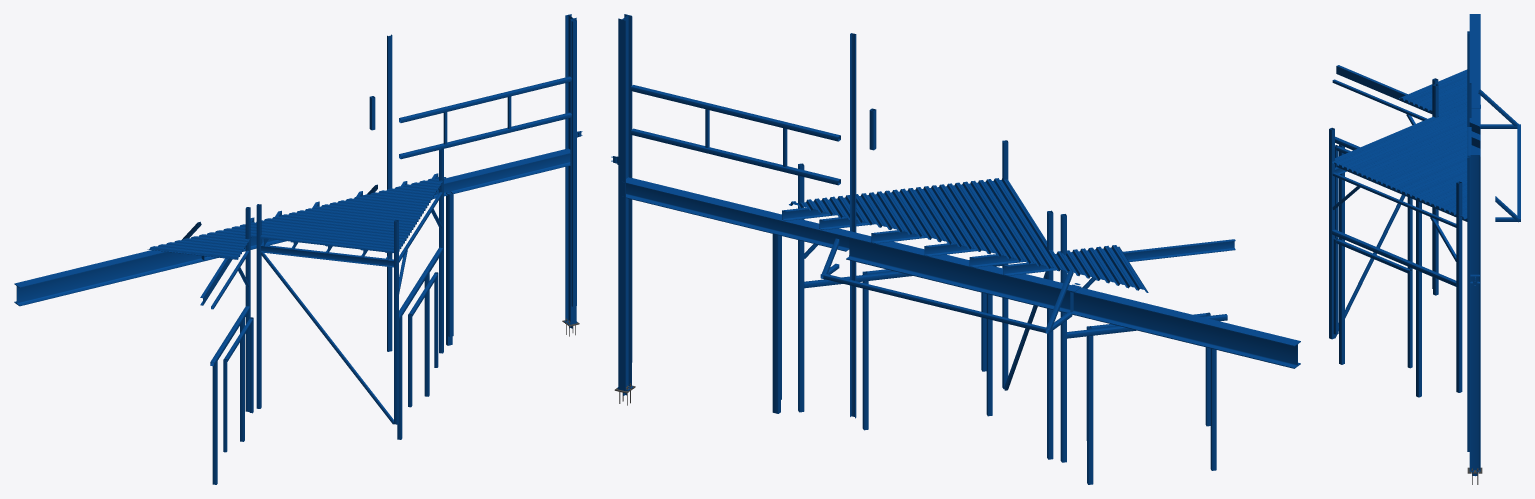
The model's file is GCC-AAV-13220-30.nwd(58).fbx.
3 renders of one model, left to right at view 1: azimuth 30°, elevation 25°; view 2: azimuth 150°, elevation 25°; view 3: azimuth 270°, elevation 25°, orthographic. The views are drawn at different scales.
Visible parts, largest first — view 1: GENSEC 1 of SBFRAMEWORK /13220-BD-001-211-5206/CS/KM1/B/+6.6, Группа фасетов (×2), GENSEC 3 of SBFRAMEWORK /13220-BD-001-211-5206/CS/KM1/B/+6.6, PANEL 233 of FRMWORK /GCC-AFT-DDD-13220-11-5206-KM_KM2-UNPLA, PANEL 225 of FRMWORK /GCC-AFT-DDD-13220-11-5206-KM_KM2-UNPLA, GENSEC 1 of SBFRAMEWORK /13220-BD-001-212-5206/CS/KM2/K/ROW_, PANEL 226 of FRMWORK /GCC-AFT-DDD-13220-11-5206-KM_KM2-UNPLA, PANEL 227 of FRMWORK /GCC-AFT-DDD-13220-11-5206-KM_KM2-UNPLA, GENSEC 237 of FRMWORK /GCC-AFT-DDD-13220-11-5206-KM_KM2-UNPL, GENSEC 277 of FRMWORK /GCC-AFT-DDD-13220-11-5206-KM_KM2-UNPL, GENSEC 36 of SBFRAMEWORK /13220-BD-001-212-5206/CS/KM2/B/+3., GENSEC 37 of SBFRAMEWORK /13220-BD-001-212-5206/CS/KM2/B/+3. (+12 smaller); view 2: GENSEC 1 of SBFRAMEWORK /13220-BD-001-211-5206/CS/KM1/B/+6.6, Группа фасетов (×2), GENSEC 3 of SBFRAMEWORK /13220-BD-001-211-5206/CS/KM1/B/+6.6, PANEL 225 of FRMWORK /GCC-AFT-DDD-13220-11-5206-KM_KM2-UNPLA, GENSEC 1 of SBFRAMEWORK /13220-BD-001-212-5206/CS/KM2/K/ROW_, PANEL 233 of FRMWORK /GCC-AFT-DDD-13220-11-5206-KM_KM2-UNPLA, PANEL 226 of FRMWORK /GCC-AFT-DDD-13220-11-5206-KM_KM2-UNPLA, PANEL 227 of FRMWORK /GCC-AFT-DDD-13220-11-5206-KM_KM2-UNPLA, GENSEC 275 of FRMWORK /GCC-AFT-DDD-13220-11-5206-KM_KM2-UNPL, GENSEC 36 of SBFRAMEWORK /13220-BD-001-212-5206/CS/KM2/B/+3., GENSEC 37 of SBFRAMEWORK /13220-BD-001-212-5206/CS/KM2/B/+3., PANEL 228 of FRMWORK /GCC-AFT-DDD-13220-11-5206-KM_KM2-UNPLA (+12 smaller); view 3: Группа фасетов (×4), PANEL 225 of FRMWORK /GCC-AFT-DDD-13220-11-5206-KM_KM2-UNPLA, PANEL 233 of FRMWORK /GCC-AFT-DDD-13220-11-5206-KM_KM2-UNPLA, GENSEC 242 of FRMWORK /GCC-AFT-DDD-13220-11-5206-KM_KM2-UNPL, PANEL 226 of FRMWORK /GCC-AFT-DDD-13220-11-5206-KM_KM2-UNPLA, GENSEC 1 of SBFRAMEWORK /13220-BD-001-211-5206/CS/KM1/B/+6.6, PANEL 227 of FRMWORK /GCC-AFT-DDD-13220-11-5206-KM_KM2-UNPLA, GENSEC 238 of FRMWORK /GCC-AFT-DDD-13220-11-5206-KM_KM2-UNPL, PANEL 228 of FRMWORK /GCC-AFT-DDD-13220-11-5206-KM_KM2-UNPLA, PANEL 222 of FRMWORK /GCC-AFT-DDD-13220-11-5206-KM_KM2-UNPLA, GENSEC 294 of FRMWORK /GCC-AFT-DDD-13220-11-5206-KM_KM2-UNPL, PANEL 229 of FRMWORK /GCC-AFT-DDD-13220-11-5206-KM_KM2-UNPLA (+20 smaller).
Boxes of the visible parts, x1,y1,x2,y2 form: GENSEC 1 of SBFRAMEWORK /13220-BD-001-211-5206/CS/KM1/B/+6.6: (14, 237, 286, 306); Группа фасетов (×2): (565, 14, 576, 324); GENSEC 3 of SBFRAMEWORK /13220-BD-001-211-5206/CS/KM1/B/+6.6: (432, 148, 571, 199); PANEL 233 of FRMWORK /GCC-AFT-DDD-13220-11-5206-KM_KM2-UNPLA: (207, 226, 402, 252); PANEL 225 of FRMWORK /GCC-AFT-DDD-13220-11-5206-KM_KM2-UNPLA: (239, 218, 409, 245); GENSEC 1 of SBFRAMEWORK /13220-BD-001-212-5206/CS/KM2/K/ROW_: (387, 34, 392, 351); PANEL 226 of FRMWORK /GCC-AFT-DDD-13220-11-5206-KM_KM2-UNPLA: (264, 213, 414, 237); PANEL 227 of FRMWORK /GCC-AFT-DDD-13220-11-5206-KM_KM2-UNPLA: (288, 207, 419, 229); GENSEC 237 of FRMWORK /GCC-AFT-DDD-13220-11-5206-KM_KM2-UNPL: (256, 204, 261, 408); GENSEC 277 of FRMWORK /GCC-AFT-DDD-13220-11-5206-KM_KM2-UNPL: (261, 245, 393, 267); GENSEC 36 of SBFRAMEWORK /13220-BD-001-212-5206/CS/KM2/B/+3.: (399, 76, 571, 122); GENSEC 37 of SBFRAMEWORK /13220-BD-001-212-5206/CS/KM2/B/+3.: (399, 112, 571, 159); GENSEC 1 of SBFRAMEWORK /13220-BD-001-211-5206/CS/KM1/B/+6.6: (846, 231, 1300, 368); Группа фасетов (×2): (618, 14, 1235, 391); GENSEC 3 of SBFRAMEWORK /13220-BD-001-211-5206/CS/KM1/B/+6.6: (622, 177, 851, 251); PANEL 225 of FRMWORK /GCC-AFT-DDD-13220-11-5206-KM_KM2-UNPLA: (953, 180, 1038, 264); GENSEC 1 of SBFRAMEWORK /13220-BD-001-212-5206/CS/KM2/K/ROW_: (850, 33, 856, 418); PANEL 233 of FRMWORK /GCC-AFT-DDD-13220-11-5206-KM_KM2-UNPLA: (984, 178, 1077, 273); PANEL 226 of FRMWORK /GCC-AFT-DDD-13220-11-5206-KM_KM2-UNPLA: (929, 183, 1009, 259); PANEL 227 of FRMWORK /GCC-AFT-DDD-13220-11-5206-KM_KM2-UNPLA: (906, 185, 979, 251); GENSEC 275 of FRMWORK /GCC-AFT-DDD-13220-11-5206-KM_KM2-UNPL: (772, 234, 780, 413); GENSEC 36 of SBFRAMEWORK /13220-BD-001-212-5206/CS/KM2/B/+3.: (631, 85, 840, 141); GENSEC 37 of SBFRAMEWORK /13220-BD-001-212-5206/CS/KM2/B/+3.: (631, 128, 840, 185); PANEL 228 of FRMWORK /GCC-AFT-DDD-13220-11-5206-KM_KM2-UNPLA: (883, 188, 950, 244); Группа фасетов (×4): (1336, 65, 1480, 471); PANEL 225 of FRMWORK /GCC-AFT-DDD-13220-11-5206-KM_KM2-UNPLA: (1342, 115, 1467, 176); PANEL 233 of FRMWORK /GCC-AFT-DDD-13220-11-5206-KM_KM2-UNPLA: (1332, 98, 1467, 167); GENSEC 242 of FRMWORK /GCC-AFT-DDD-13220-11-5206-KM_KM2-UNPL: (1456, 181, 1462, 392); PANEL 226 of FRMWORK /GCC-AFT-DDD-13220-11-5206-KM_KM2-UNPLA: (1357, 128, 1467, 182); GENSEC 1 of SBFRAMEWORK /13220-BD-001-211-5206/CS/KM1/B/+6.6: (1469, 14, 1480, 154); PANEL 227 of FRMWORK /GCC-AFT-DDD-13220-11-5206-KM_KM2-UNPLA: (1371, 140, 1467, 188); GENSEC 238 of FRMWORK /GCC-AFT-DDD-13220-11-5206-KM_KM2-UNPL: (1329, 127, 1334, 339); PANEL 228 of FRMWORK /GCC-AFT-DDD-13220-11-5206-KM_KM2-UNPLA: (1386, 152, 1467, 194); PANEL 222 of FRMWORK /GCC-AFT-DDD-13220-11-5206-KM_KM2-UNPLA: (1399, 69, 1467, 107); GENSEC 294 of FRMWORK /GCC-AFT-DDD-13220-11-5206-KM_KM2-UNPL: (1332, 229, 1456, 286); PANEL 229 of FRMWORK /GCC-AFT-DDD-13220-11-5206-KM_KM2-UNPLA: (1401, 164, 1467, 200).
Bounding box in the file's own units: 723 × 424 × 206.
